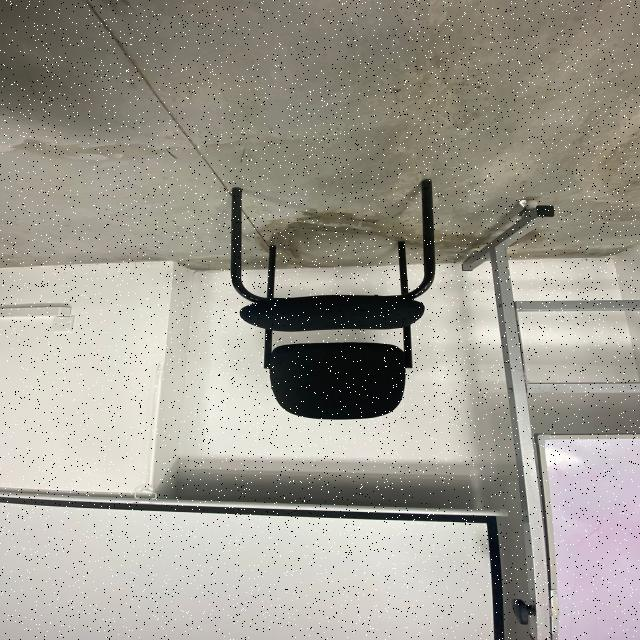bottle: (226, 179, 440, 422)
